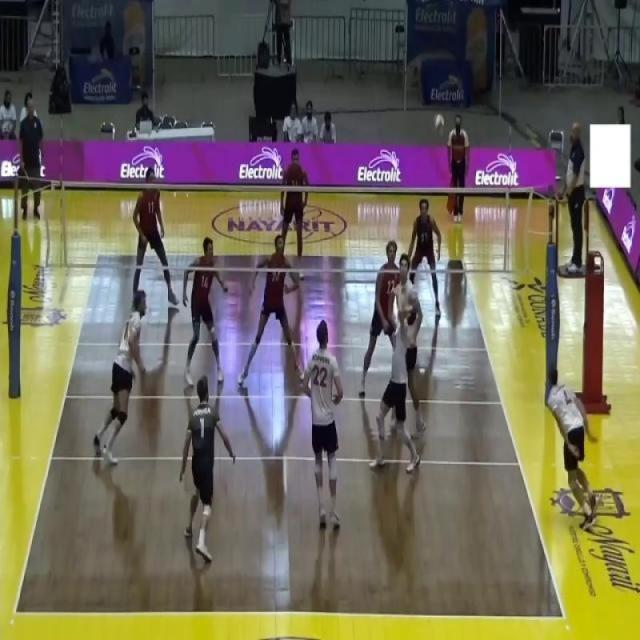volleyball: (432, 114, 444, 138)
